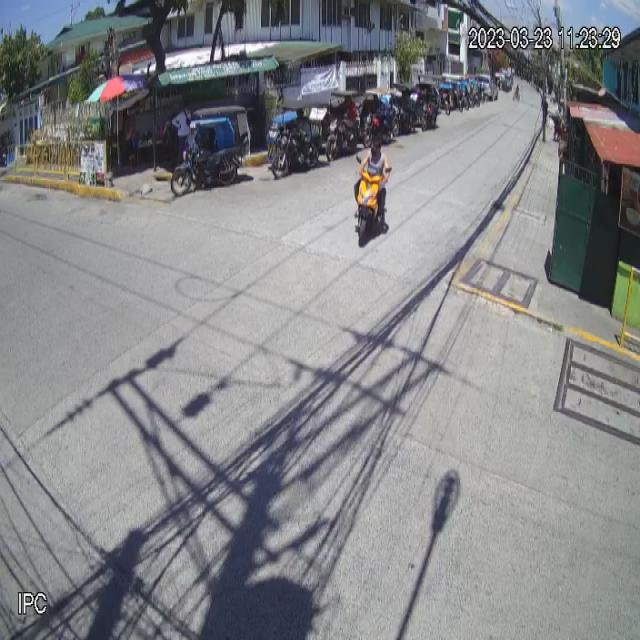Motorcycle: (353, 154, 392, 248)
Tricycle: (170, 104, 252, 197)
